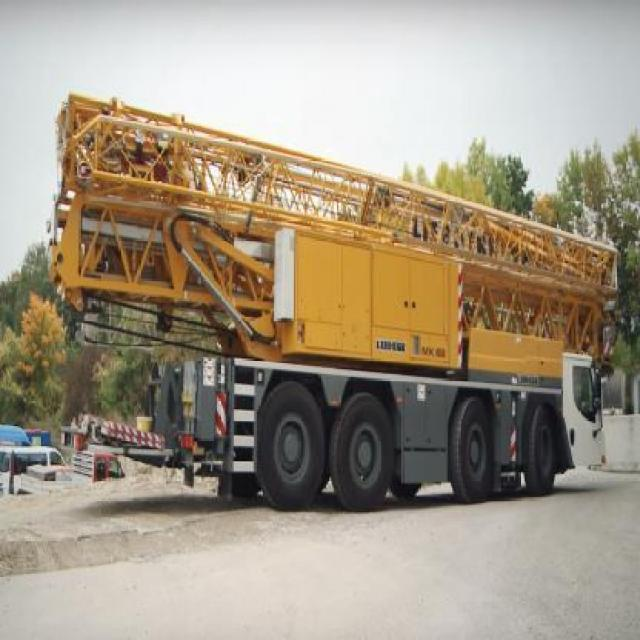Mobile Crane: (51, 100, 617, 508)
